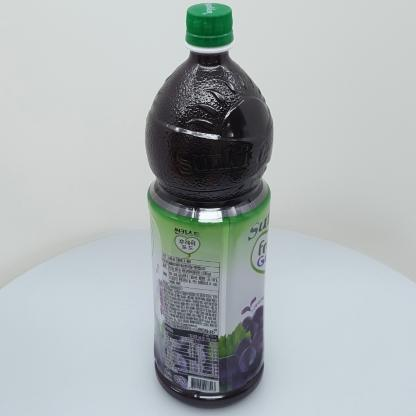-------50_1-5L: (145, 3, 273, 408)
